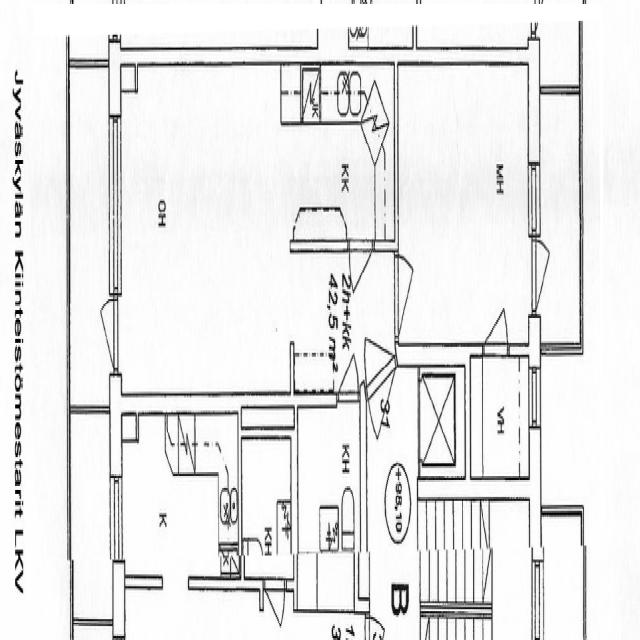door: (396, 58, 532, 348), (527, 234, 551, 314), (100, 289, 122, 375), (482, 301, 512, 359), (336, 346, 360, 407), (264, 579, 286, 629)
window: (106, 102, 125, 294)
zone: (122, 60, 398, 392), (395, 54, 533, 348), (116, 414, 237, 588), (361, 361, 414, 640), (294, 401, 360, 623), (535, 79, 580, 341), (240, 428, 294, 592), (468, 354, 531, 485), (417, 364, 468, 474)
